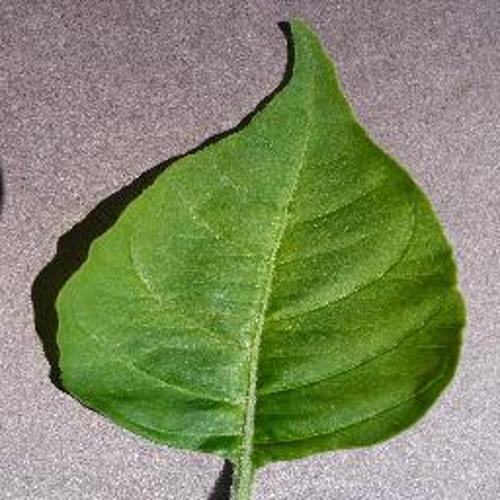Pepper: (57, 22, 466, 500)
